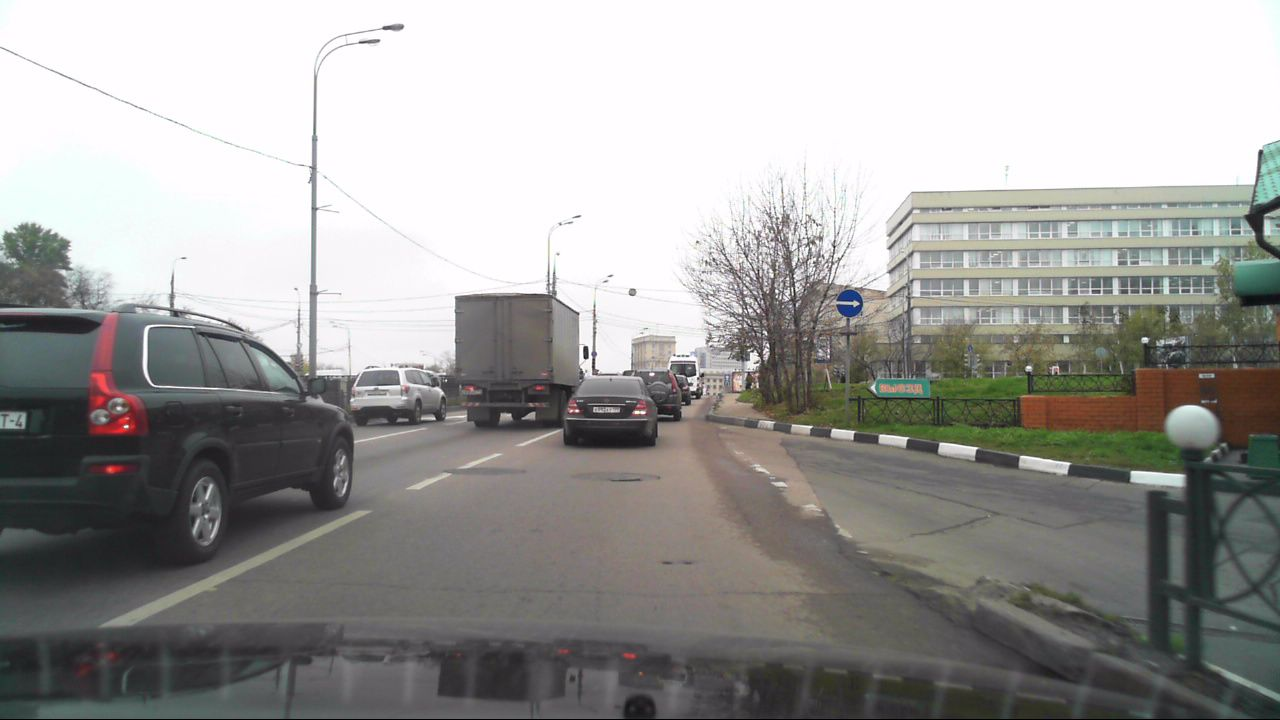Turn Right: (836, 289, 863, 317)
